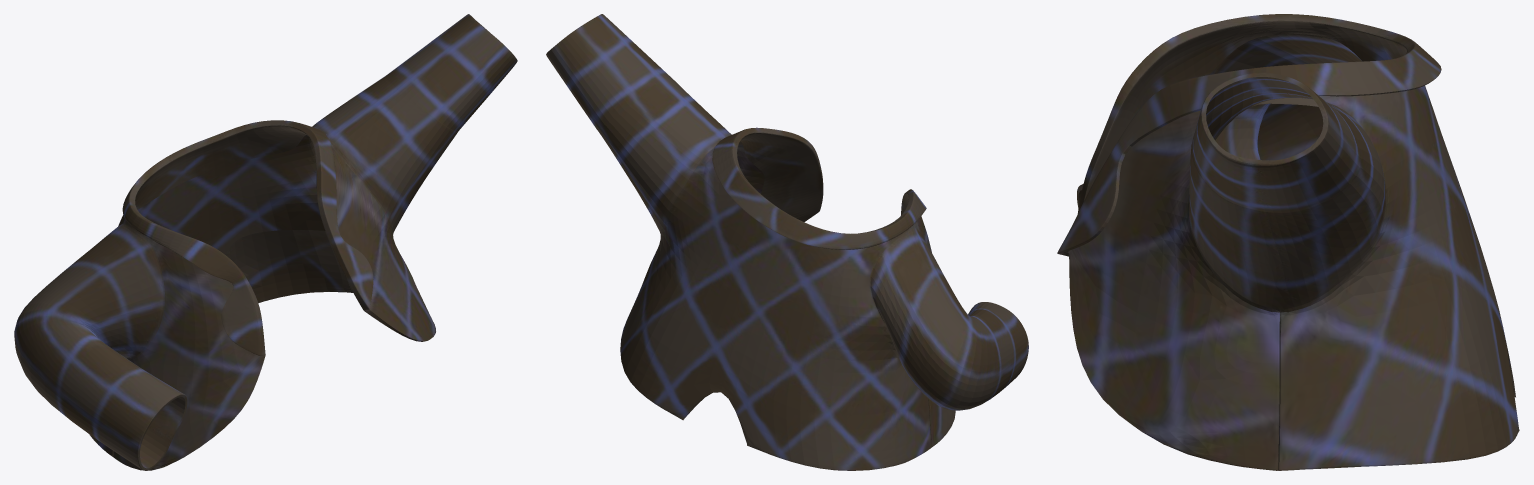
File: SubTool-22-10668038.OBJ
The picture shows the model from 3 angles, left to right: view 1: azimuth 30°, elevation 25°; view 2: azimuth 150°, elevation 25°; view 3: azimuth 270°, elevation 25°; orthographic projection. The views are drawn at different scales.
Parts seen in each view (by area): view 1: Group11; view 2: Group11; view 3: Group11.
Boxes of the visible parts, x1=… form: Group11: x1=14, y1=14, x2=517, y2=470; Group11: x1=546, y1=14, x2=1028, y2=470; Group11: x1=1057, y1=14, x2=1519, y2=470.
Size of the model in its own units: 31.37 by 22.86 by 17.3.
1 material, 1 textured.
